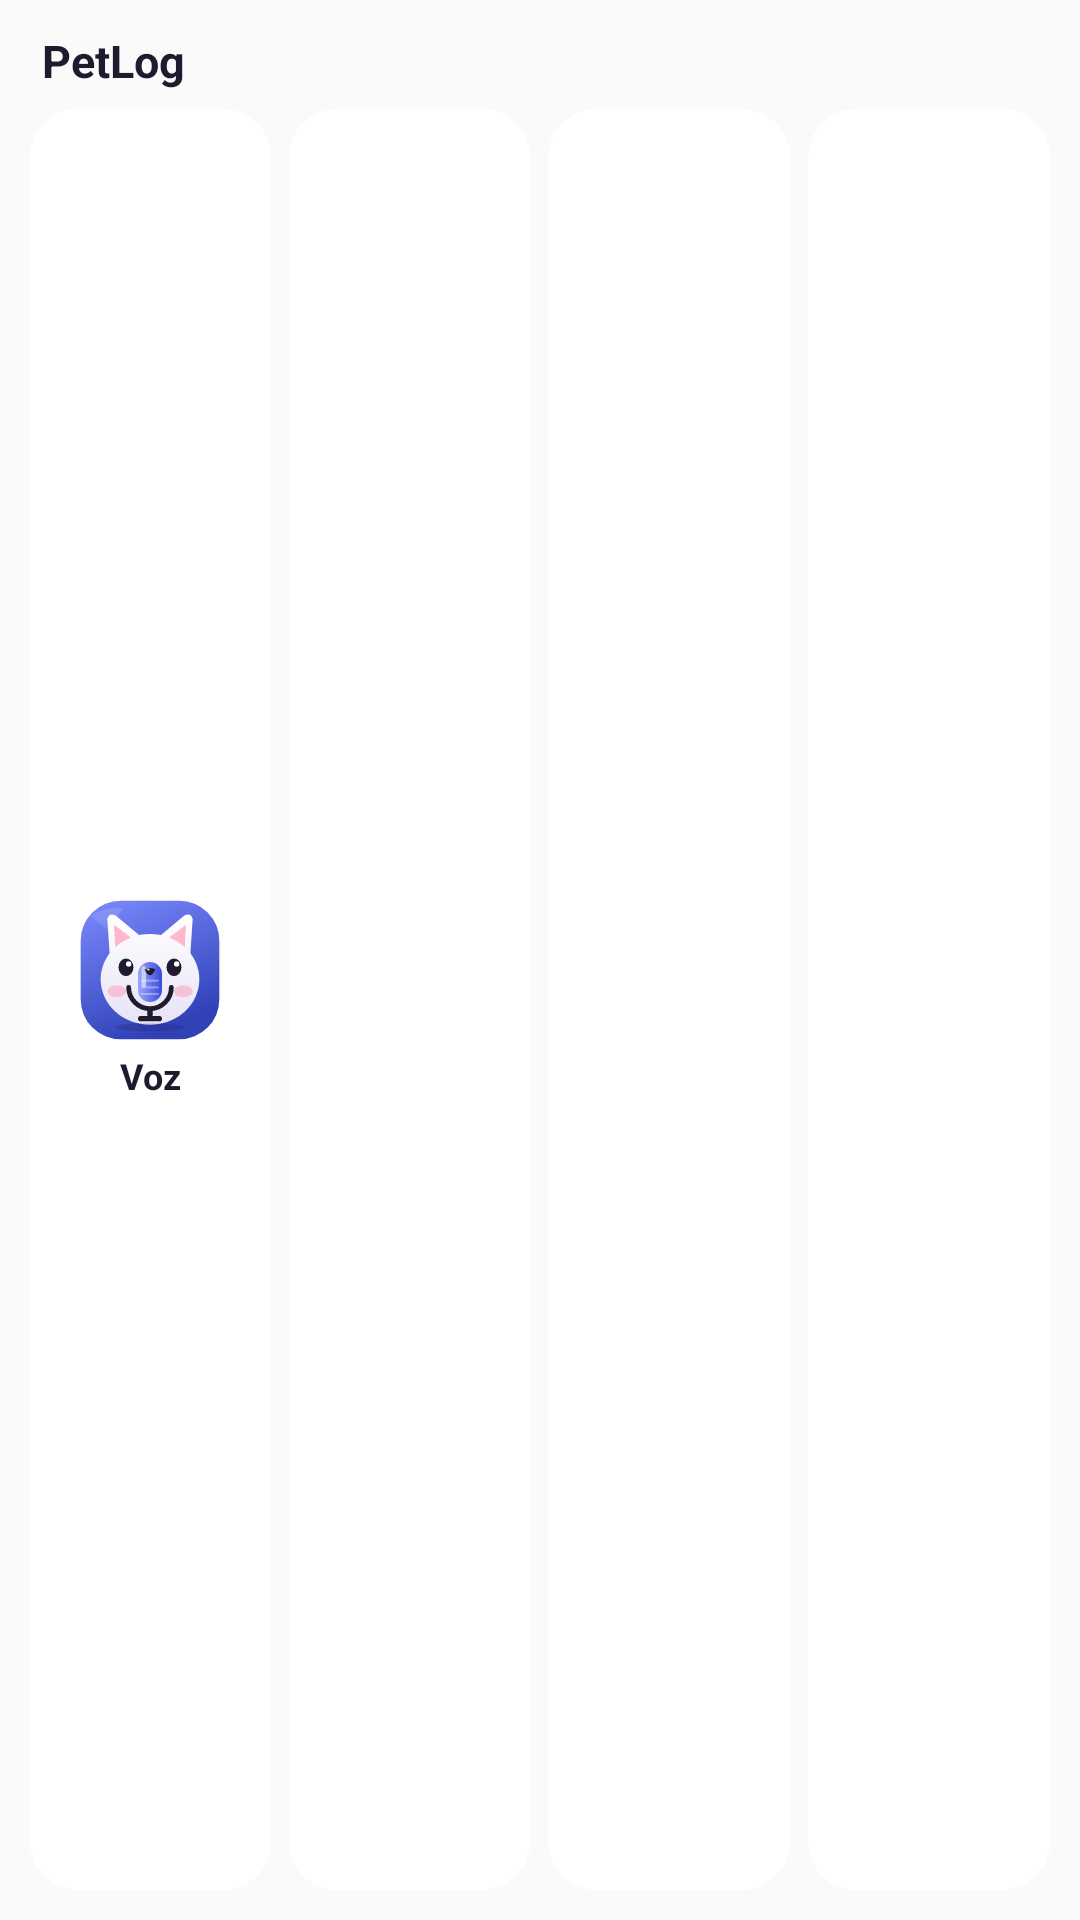

Screen size 1080 x 1920. Icon name, then its center in pixels as point (x, y):
Anotar por voz: point (150, 970)
